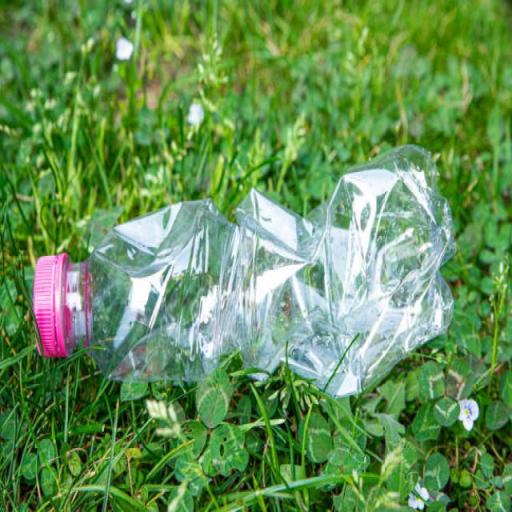bottle: (33, 145, 454, 396)
